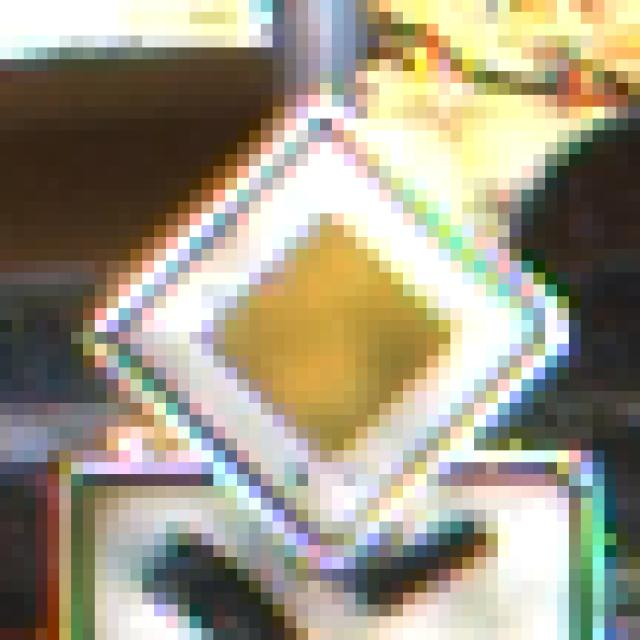Main Road: (72, 60, 582, 582)
